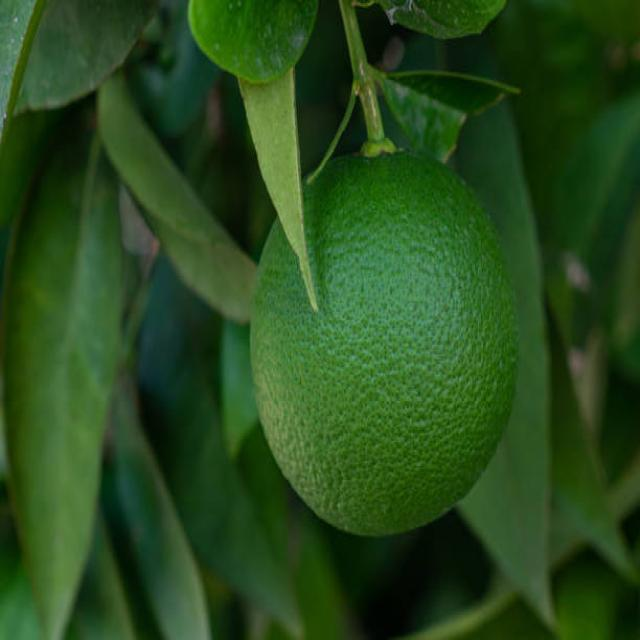Unripe: (246, 135, 520, 539)
